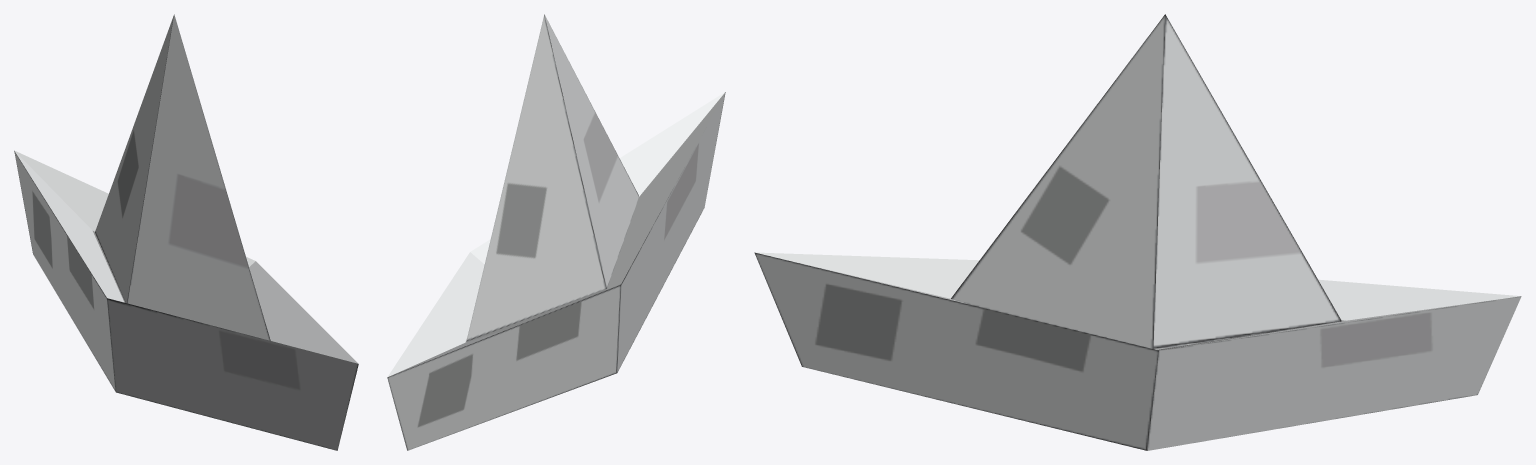
Rendered from Jame.glb.
3 renders of one model, left to right at view 1: azimuth 30°, elevation 25°; view 2: azimuth 150°, elevation 25°; view 3: azimuth 270°, elevation 25°, orthographic. The views are drawn at different scales.
Visible parts, largest first — view 1: Plane.003; view 2: Plane.003; view 3: Plane.003.
Boxes of the visible parts, x1=… form: Plane.003: x1=14, y1=14, x2=358, y2=450; Plane.003: x1=387, y1=14, x2=725, y2=450; Plane.003: x1=754, y1=14, x2=1521, y2=450.
Size of the model in its own units: 0.7567 by 1.71 by 2.99.
Materials: 1 (1 with a texture image).
